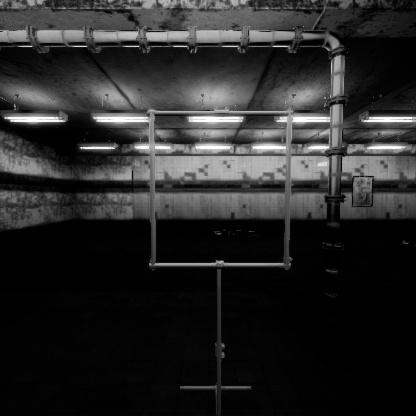gate: (149, 146, 305, 305)
